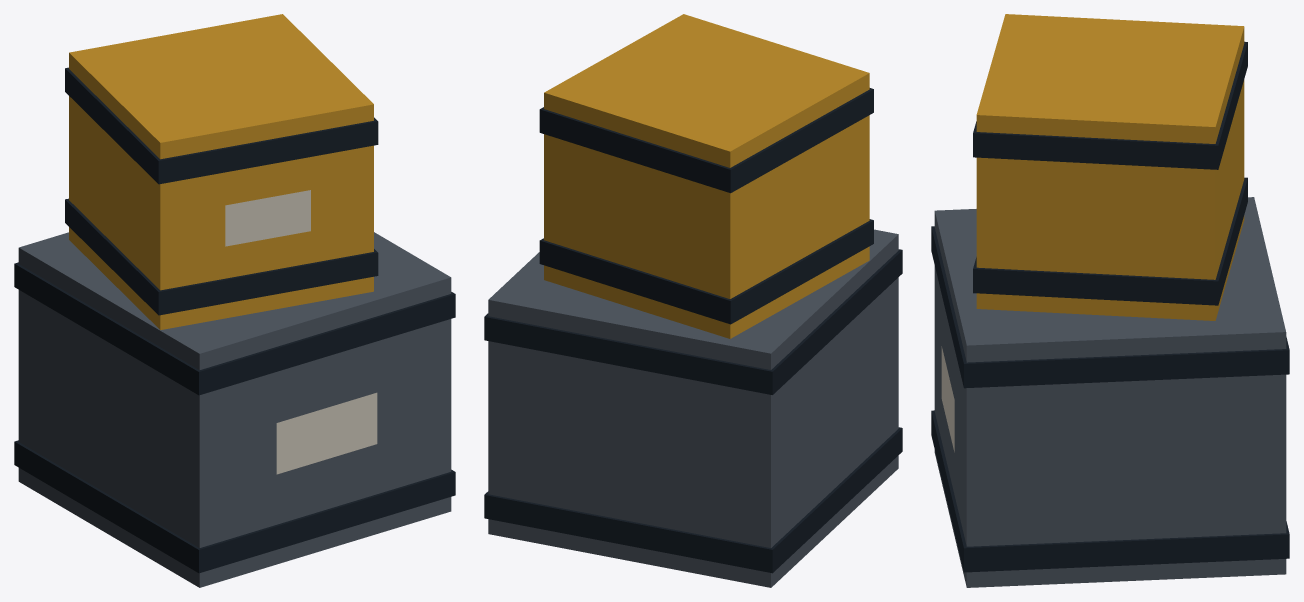
File: caixas_carga_b.glb
The picture shows the model from 3 angles, left to right: view 1: azimuth 30°, elevation 25°; view 2: azimuth 150°, elevation 25°; view 3: azimuth 270°, elevation 25°; orthographic projection. The views are drawn at different scales.
Parts seen in each view (by area): view 1: caixas_carga_b_malha; view 2: caixas_carga_b_malha; view 3: caixas_carga_b_malha.
Part boxes in pixels (x1=…): caixas_carga_b_malha: x1=14, y1=14, x2=455, y2=587; caixas_carga_b_malha: x1=484, y1=14, x2=902, y2=587; caixas_carga_b_malha: x1=931, y1=14, x2=1289, y2=587.
Size of the model in its own units: 0.67 by 0.9 by 0.67.
